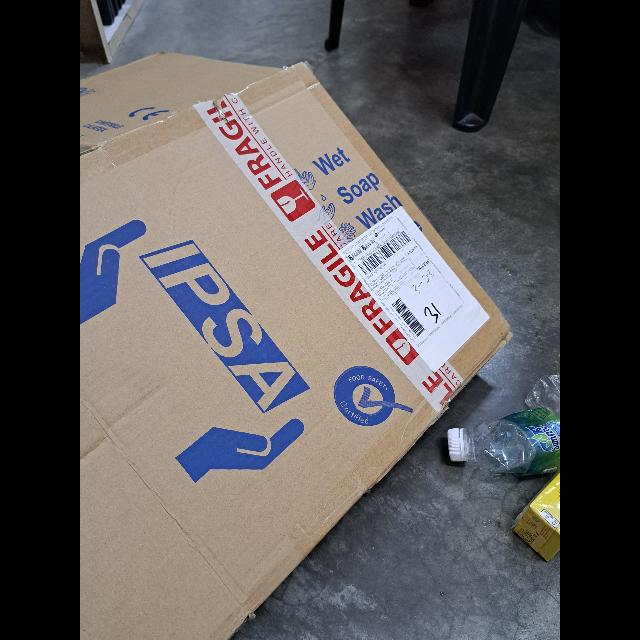caixinha: (80, 48, 510, 640), (512, 472, 560, 564)
garrafa plástica: (446, 410, 560, 480), (524, 368, 560, 409)
tampa plástica: (446, 427, 474, 463)
